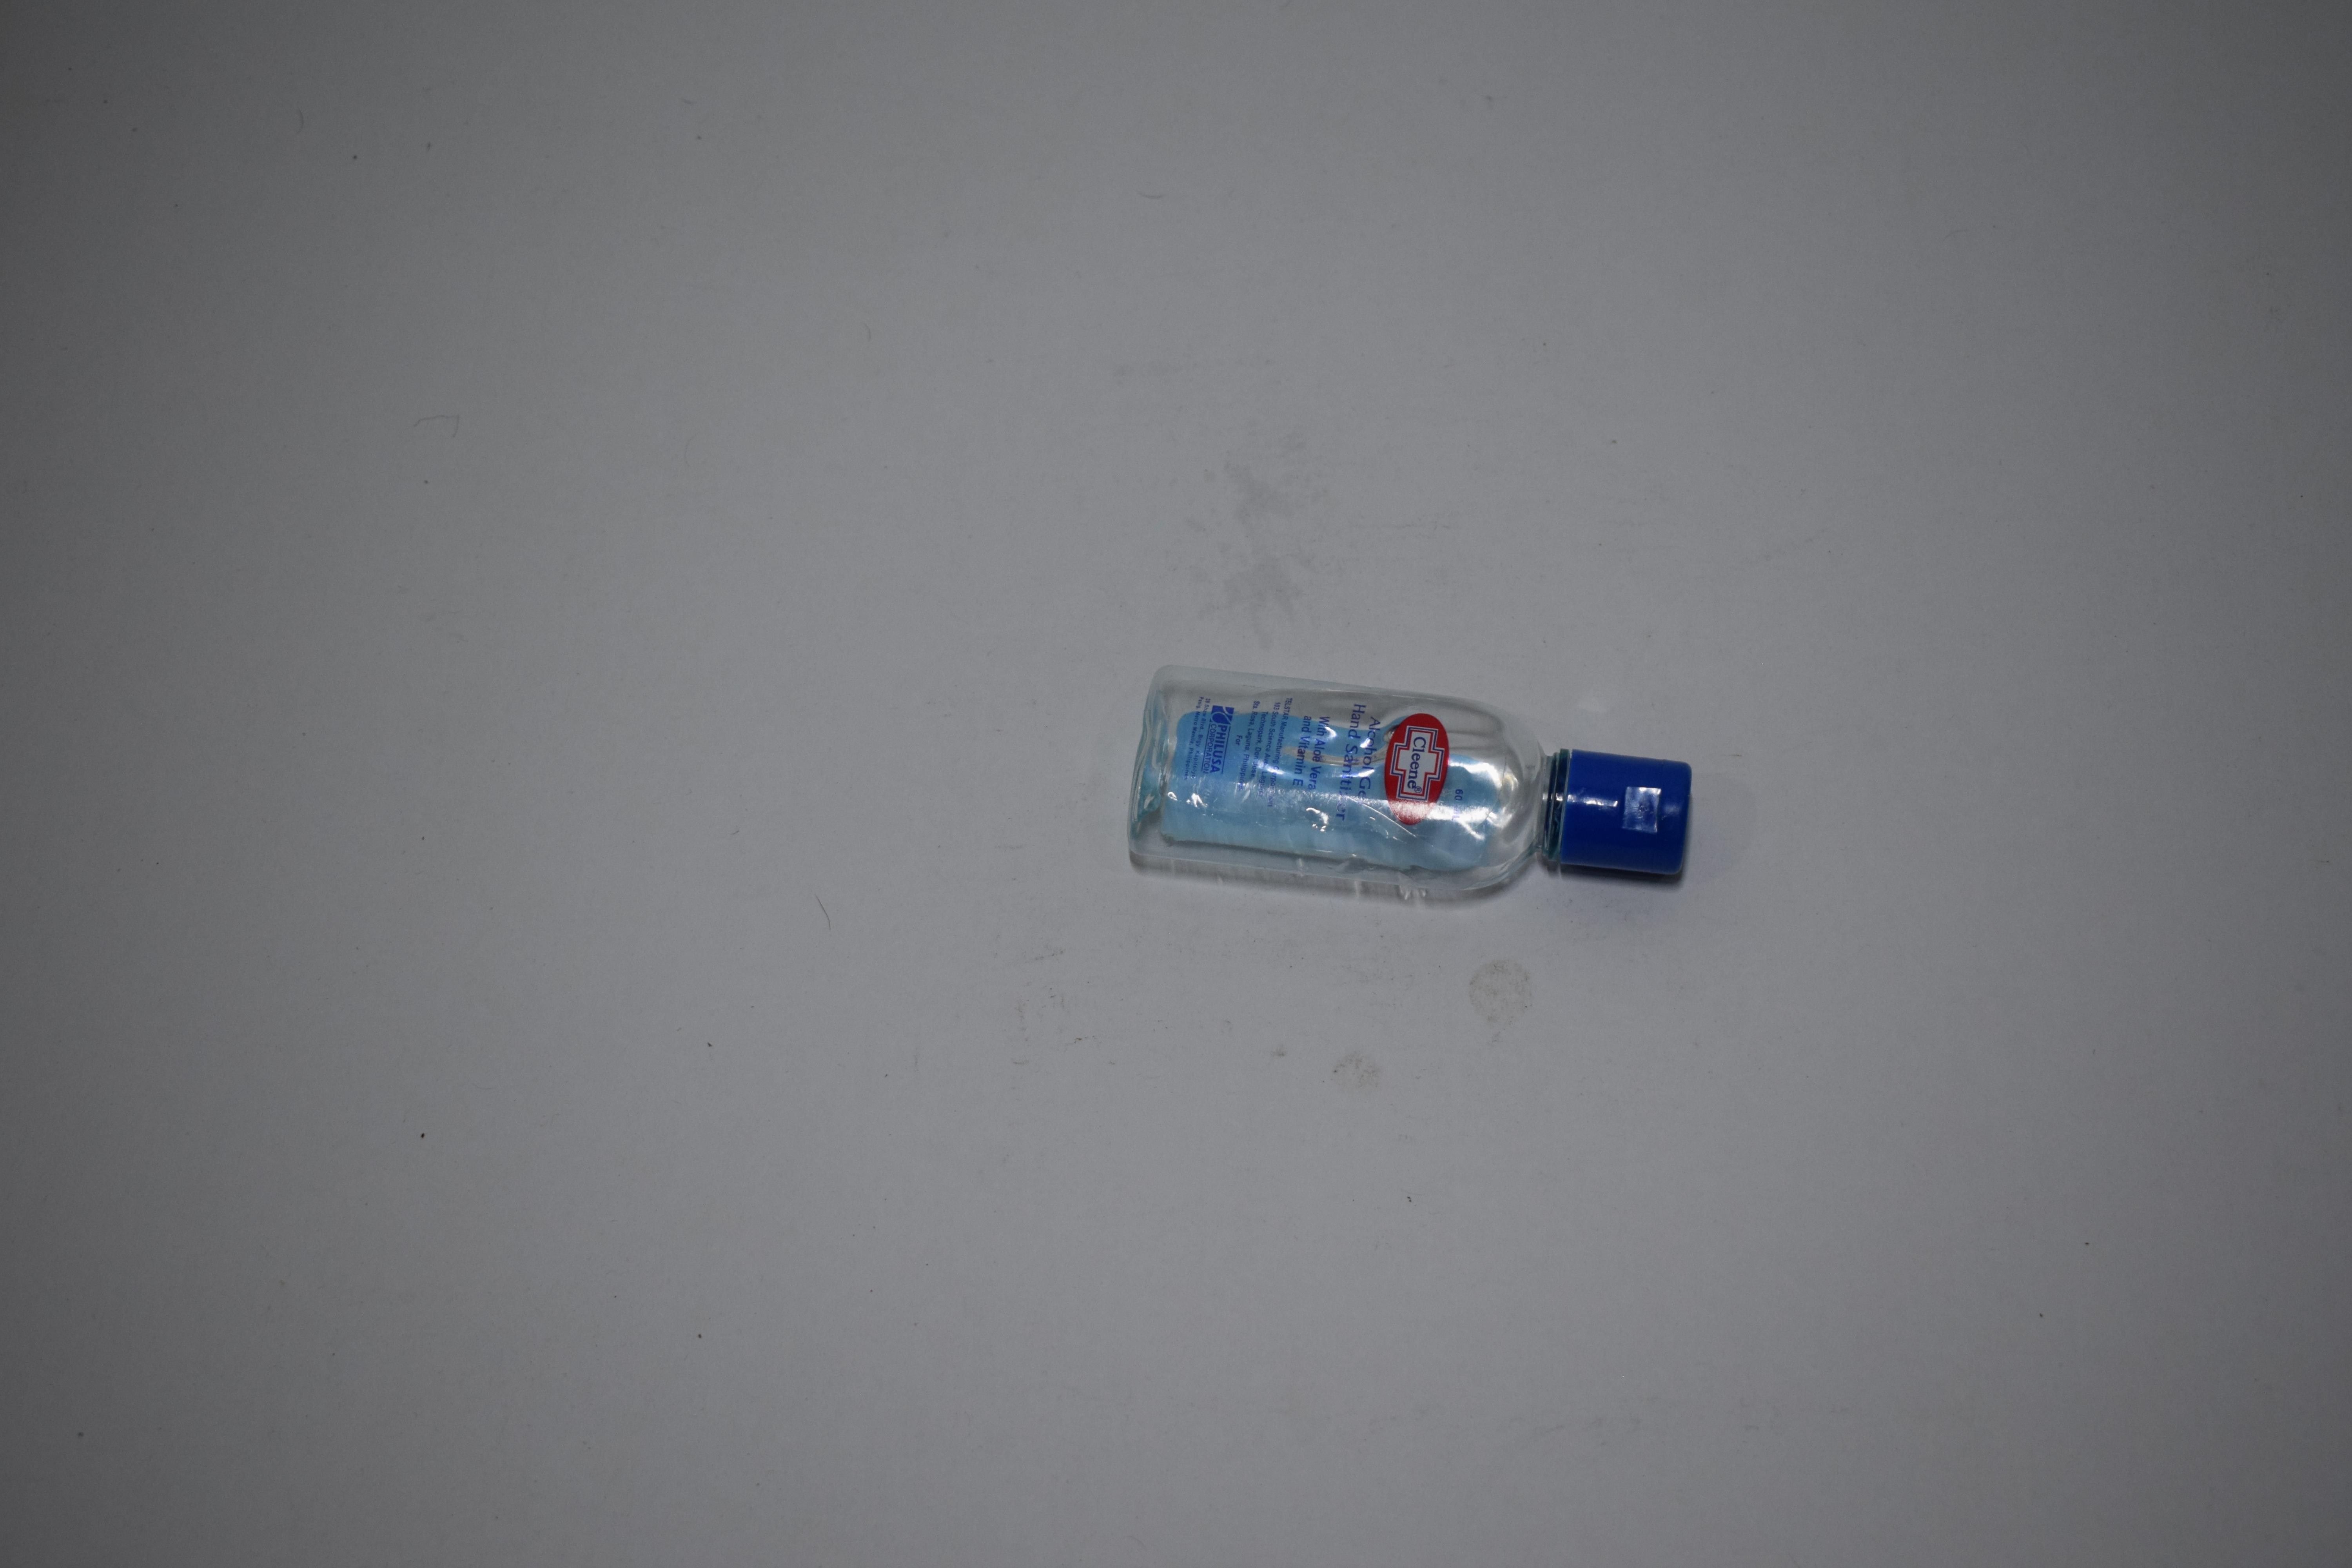bottle: (0, 0, 521, 136)
